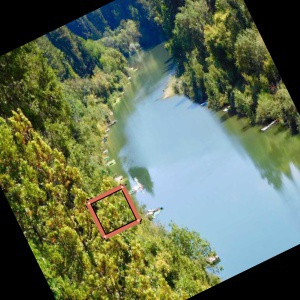square: (86, 183, 142, 240)
